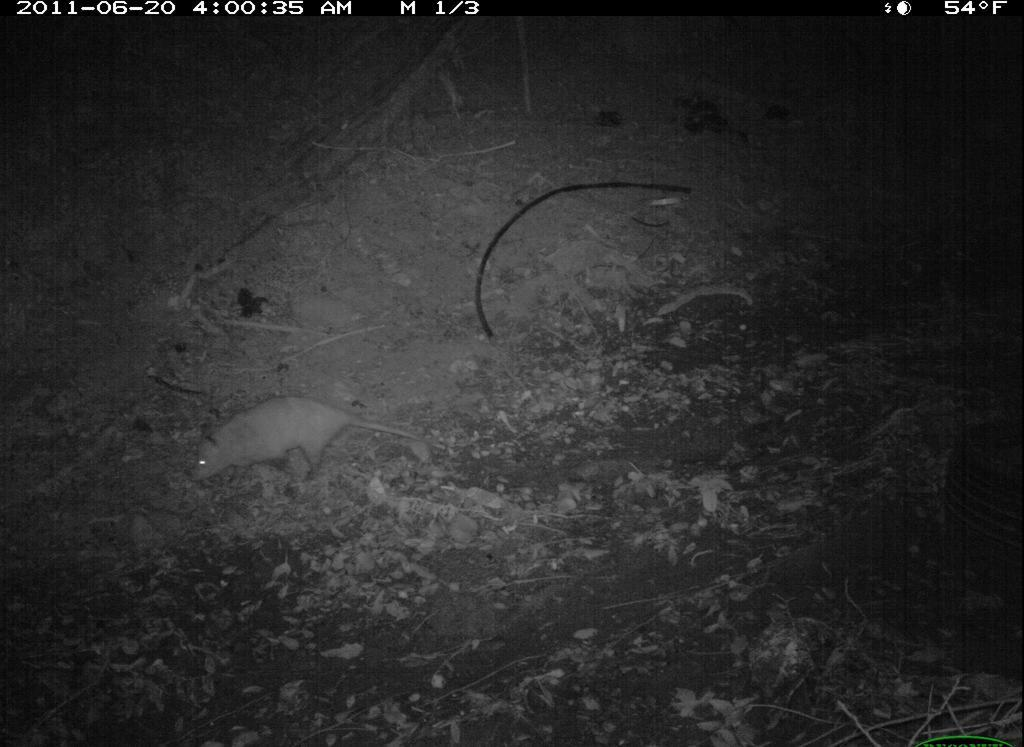opossum: (162, 401, 442, 501)
